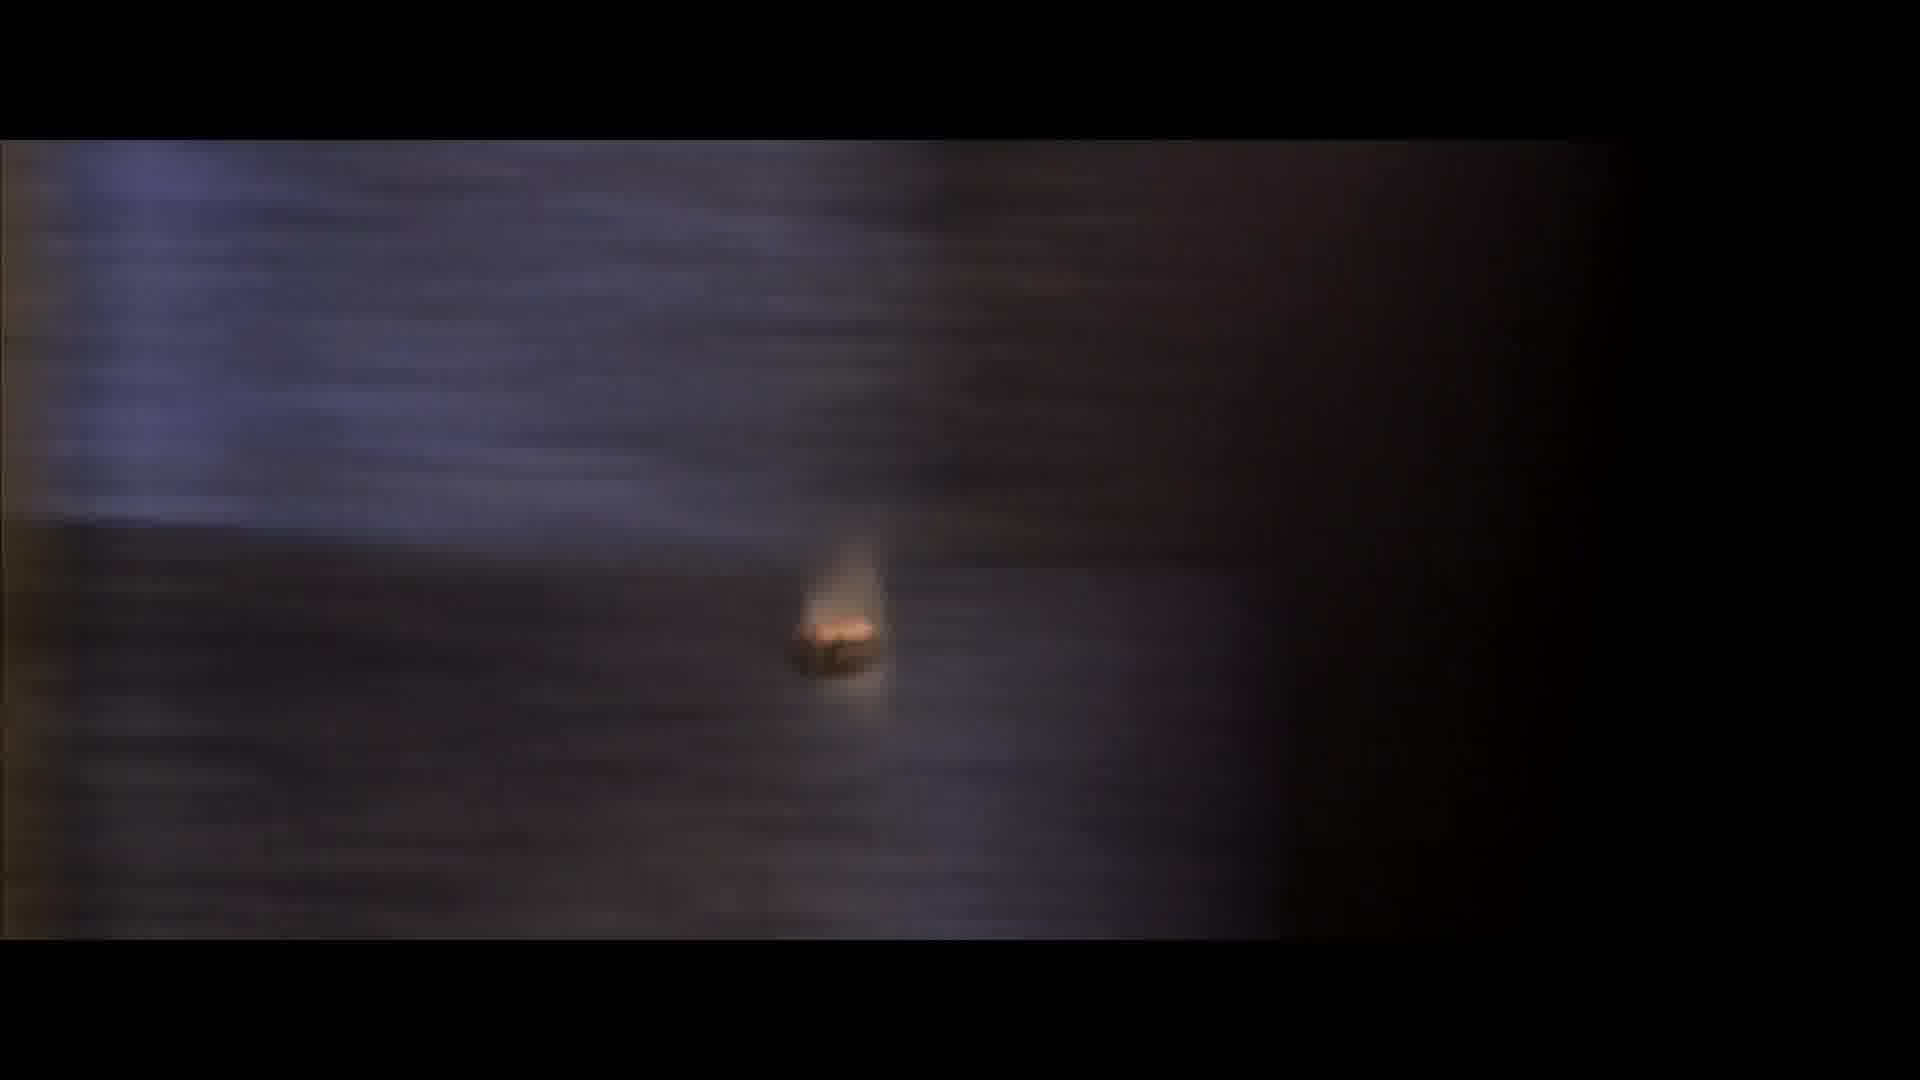snitch: (786, 597, 894, 702)
